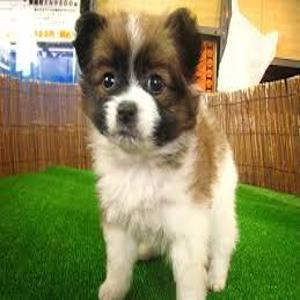yell: (74, 7, 238, 300)
